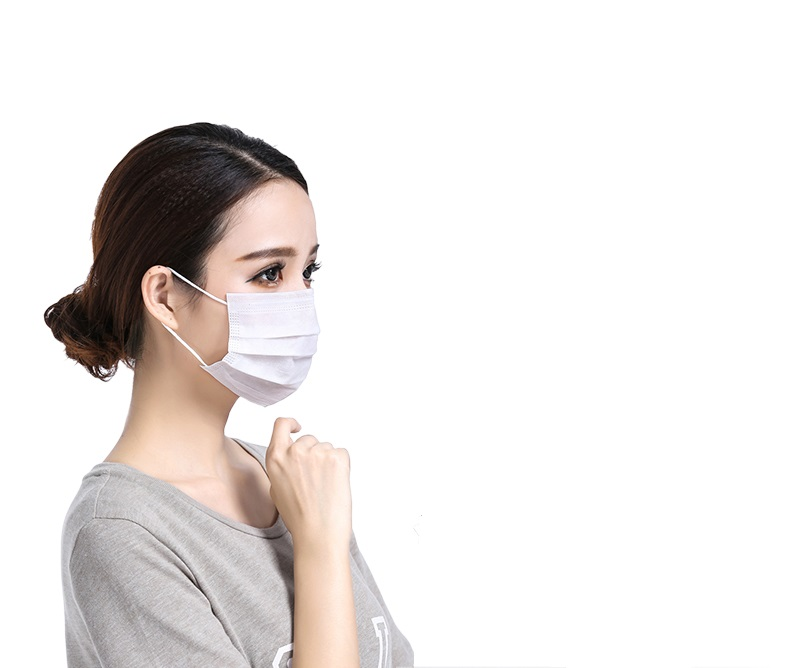face_mask: (177, 185, 321, 389)
